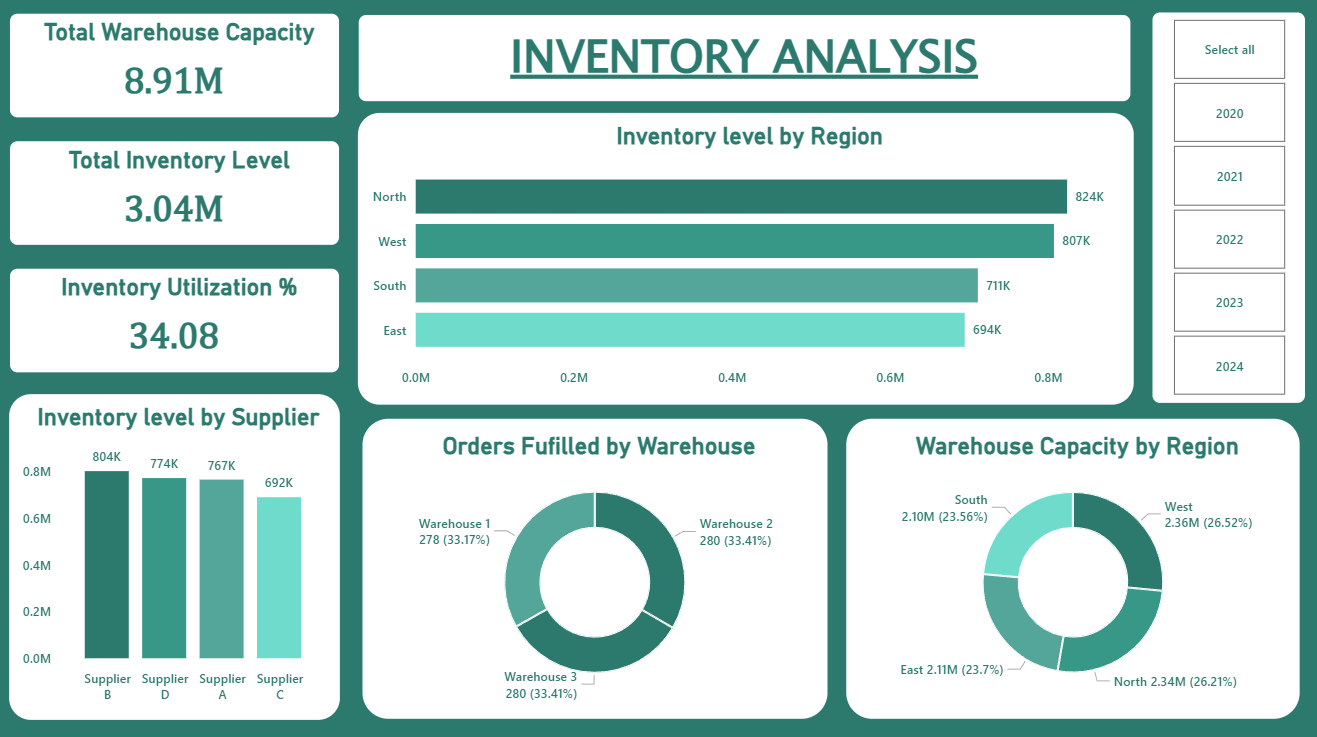

The dashboard page shown, as its layout file describes it:
{"tool":"powerbi","page":{"name":"INVENTORY ANALYSIS","canvas":[1280,720],"ordinal":2},"visuals":[{"type":"clusteredBarChart","title":"Inventory level by Region","fields":{"Y":["Sum(inventory_operations.inventory_level)"],"Category":["inventory_operations.region"]},"box":[346.2,109.8,756.4,289.5],"z":0},{"type":"donutChart","title":"Warehouse Capacity by Region","fields":{"Category":["inventory_operations.region"],"Y":["Sum(inventory_operations.warehouse_capacity)"]},"box":[821.6,409,437.9,289.5],"z":1000},{"type":"donutChart","title":"Orders Fufilled by Warehouse","fields":{"Category":["inventory_operations.warehouse"],"Y":["inventory_operations.Orders Fufilled"]},"box":[354.7,409,448.8,289.5],"z":2000},{"type":"clusteredColumnChart","title":"Inventory level  by Supplier","fields":{"Category":["inventory_operations.supplier"],"Y":["Sum(inventory_operations.inventory_level)"]},"box":[9.7,381.2,326.9,322.1],"z":3000},{"type":"card","title":"Total Warehouse Capacity","fields":{"Values":["Sum(inventory_operations.warehouse_capacity)"]},"box":[9.7,13.3,326.9,109.8],"z":4000},{"type":"card","title":"Total Inventory Level","fields":{"Values":["Sum(inventory_operations.inventory_level)"]},"box":[9.7,136.3,326.9,109.8],"z":5000},{"type":"card","title":"Inventory Utilization %","fields":{"Values":["inventory_operations.Inventory Utilization %"]},"box":[9.7,259.4,326.9,109.8],"z":6000},{"type":"slicer","fields":{"Values":["inventory_operations.date.Variation.Date Hierarchy.Year"]},"box":[1112.3,12.1,156.8,386.1],"z":7000},{"type":"textbox","box":[346.2,14.5,754,92.9],"z":8000}]}

Visuals, with their boxes in screenshot pixels (x1, y1, x2, y2), scaled from the page's 1280x720 canvas onto the 1317x737 screenshot:
"Inventory level by Region" clusteredBarChart: BBox(356, 112, 1134, 409)
"Warehouse Capacity by Region" donutChart: BBox(845, 419, 1296, 715)
"Orders Fufilled by Warehouse" donutChart: BBox(365, 419, 827, 715)
"Inventory level  by Supplier" clusteredColumnChart: BBox(10, 390, 346, 720)
"Total Warehouse Capacity" card: BBox(10, 14, 346, 126)
"Total Inventory Level" card: BBox(10, 140, 346, 252)
"Inventory Utilization %" card: BBox(10, 266, 346, 378)
slicer - inventory_operations.date.Variation.Date Hierarchy.Year: BBox(1144, 12, 1306, 408)
textbox: BBox(356, 15, 1132, 110)
